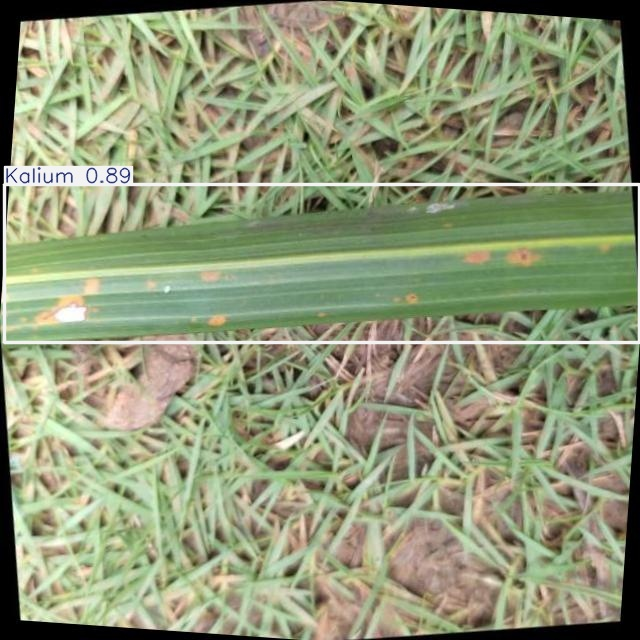Kalium: (4, 184, 639, 343)
